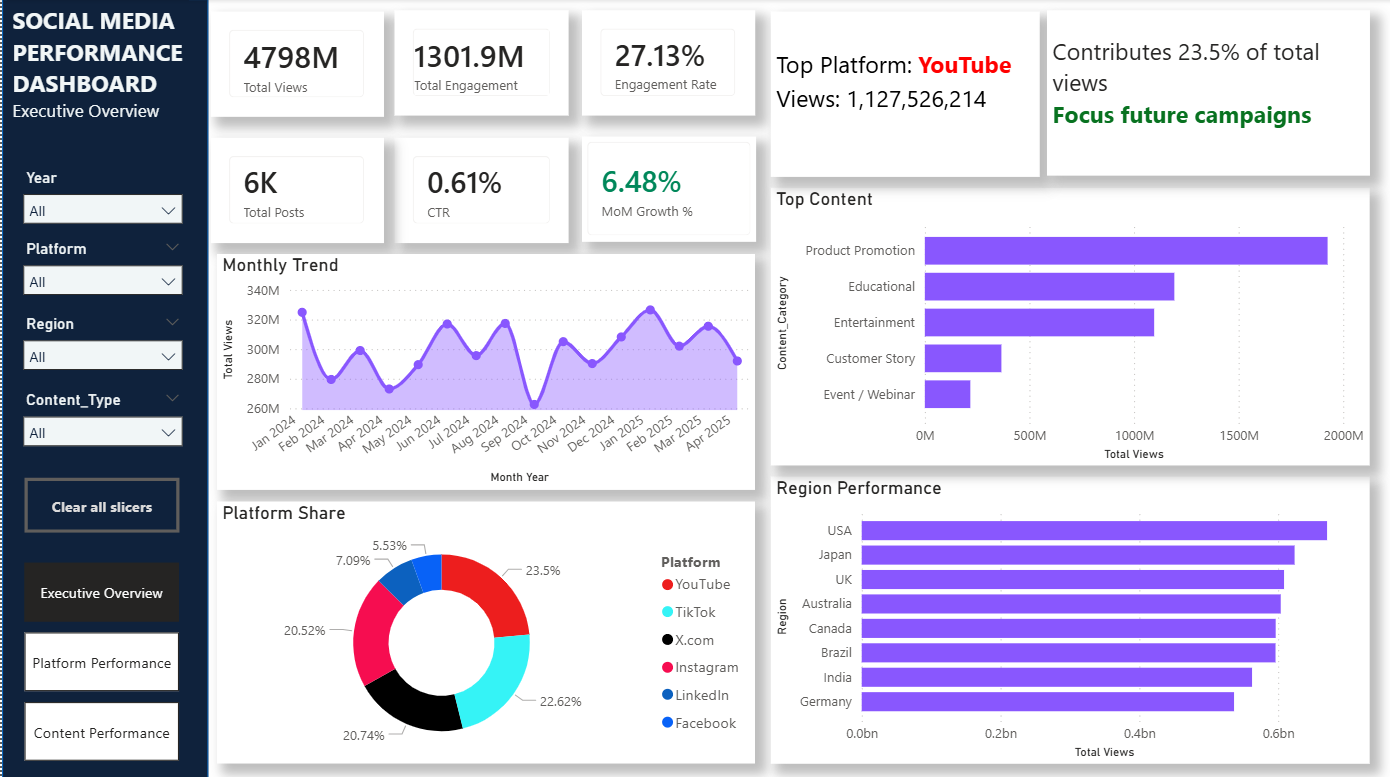

The page's visual inventory and layout, read from the dashboard file:
{"tool":"powerbi","page":{"name":"Executiive Overview","canvas":[1280,720],"ordinal":0},"visuals":[{"type":"shape","box":[0,0,189.7,719.9],"z":0},{"type":"textbox","box":[4.9,0,167.5,150.5],"z":1000},{"type":"slicer","fields":{"Values":["Dim_Date.Year"]},"box":[8.7,150.2,166.6,66.6],"z":2000},{"type":"slicer","fields":{"Values":["Dim_Platform.Platform"]},"box":[8.7,215.7,166.6,58.6],"z":3000},{"type":"slicer","fields":{"Values":["Dim_Region.Region"]},"box":[8.7,284.6,166.6,58.6],"z":4000},{"type":"slicer","fields":{"Values":["Dim_Content.Content_Type"]},"box":[8.7,354.7,166.6,62],"z":5000},{"type":"cardVisual","fields":{"Data":["Measures_Table.Total Views"]},"box":[192,11,159,96.6],"z":6000},{"type":"cardVisual","fields":{"Data":["Measures_Table.Total Engagement"]},"box":[360.7,9.8,160.2,96.6],"z":7000},{"type":"cardVisual","fields":{"Data":["Measures_Table.CTR"]},"box":[360.7,127.2,160.2,96.6],"z":8000},{"type":"cardVisual","fields":{"Data":["Measures_Table.Engagement Rate"]},"box":[533.1,9.8,159,96.6],"z":9000},{"type":"cardVisual","fields":{"Data":["Measures_Table.Total Posts"]},"box":[192,127.2,159,96.6],"z":10000},{"type":"cardVisual","fields":{"Data":["Measures_Table.MoM Growth %"]},"box":[533.1,125.9,160.2,96.6],"z":11000},{"type":"lineChart","title":"Monthly Trend","fields":{"Category":["Dim_Date.Month Year"],"Y":["Measures_Table.Total Views"]},"box":[198.1,234.8,494,216.4],"z":12000},{"type":"donutChart","title":"Platform Share","fields":{"Category":["Dim_Platform.Platform"],"Y":["Measures_Table.Total Views"]},"box":[198.1,462.2,494,240.9],"z":13000},{"type":"clusteredBarChart","title":"Region Performance","fields":{"Category":["Dim_Region.Region"],"Y":["Measures_Table.Total Views"]},"box":[706.8,439,550.3,264.1],"z":14000},{"type":"clusteredBarChart","title":"Top Content","fields":{"Category":["Dim_Content.Content_Category"],"Y":["Measures_Table.Total Views"]},"box":[706.8,173.6,550.3,255.6],"z":15000},{"type":"pageNavigator","box":[20.7,518.1,142.4,184.9],"z":16000},{"type":"actionButton","box":[20.7,440,142.4,50.5],"z":17000},{"type":"textbox","box":[706.8,11,247,151.6],"z":18000},{"type":"textbox","box":[960.5,10.5,296.5,152.3],"z":19000}]}

Visuals, with their boxes in screenshot pixels (x1, y1, x2, y2), scaled from the page's 1280x720 canvas onto the 1390x777 screenshot:
shape: 0:0:206:776
textbox: 5:0:187:162
slicer - Dim_Date.Year: 9:162:190:234
slicer - Dim_Platform.Platform: 9:233:190:296
slicer - Dim_Region.Region: 9:307:190:370
slicer - Dim_Content.Content_Type: 9:383:190:450
cardVisual - Measures_Table.Total Views: 208:12:381:116
cardVisual - Measures_Table.Total Engagement: 392:11:566:115
cardVisual - Measures_Table.CTR: 392:137:566:242
cardVisual - Measures_Table.Engagement Rate: 579:11:752:115
cardVisual - Measures_Table.Total Posts: 208:137:381:242
cardVisual - Measures_Table.MoM Growth %: 579:136:753:240
"Monthly Trend" lineChart: 215:253:752:487
"Platform Share" donutChart: 215:499:752:759
"Region Performance" clusteredBarChart: 768:474:1365:759
"Top Content" clusteredBarChart: 768:187:1365:463
pageNavigator: 22:559:177:759
actionButton: 22:475:177:529
textbox: 768:12:1036:175
textbox: 1043:11:1365:176
